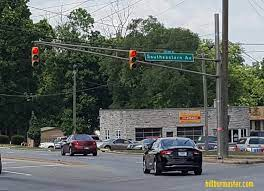red: (31, 46, 40, 67), (129, 50, 137, 70)
